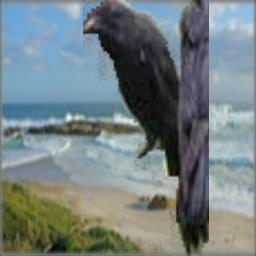Crow: (83, 0, 209, 256)
